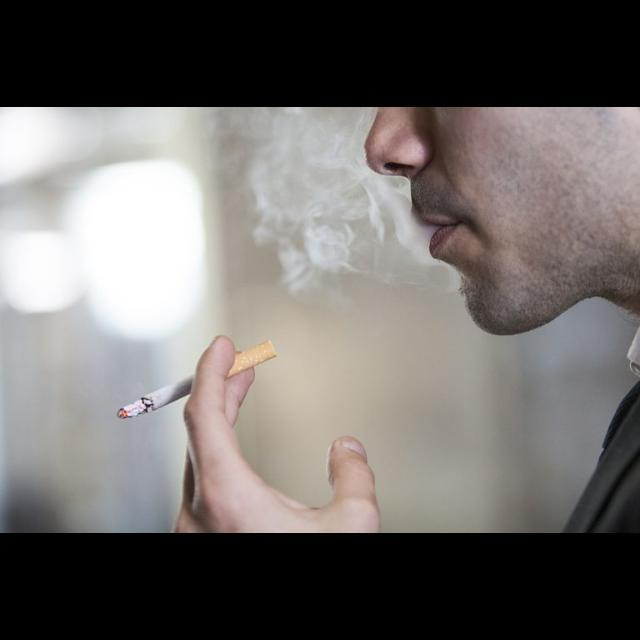rokok: (93, 334, 294, 430)
